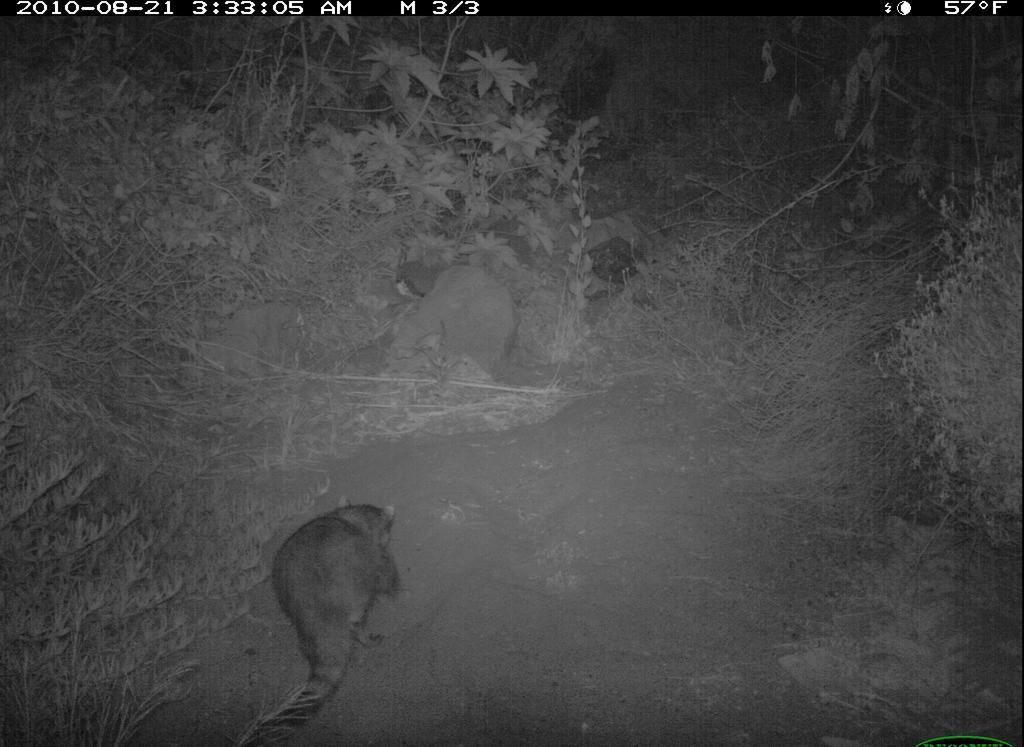raccoon: (231, 479, 432, 745)
